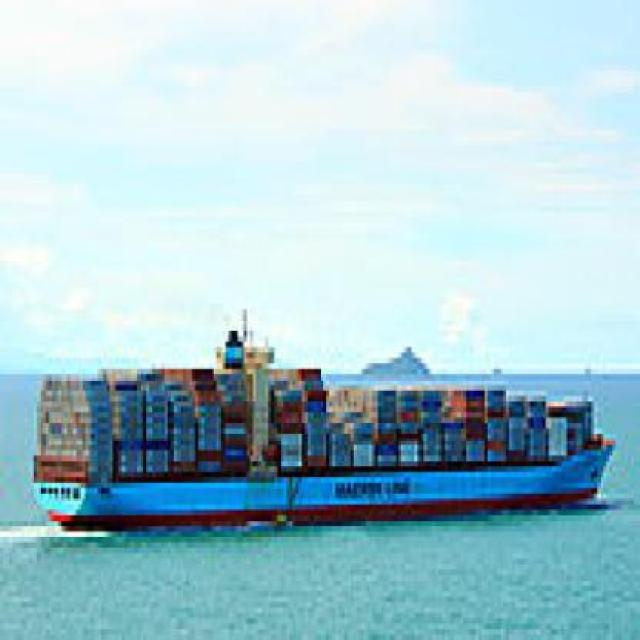container: (22, 310, 614, 549)
